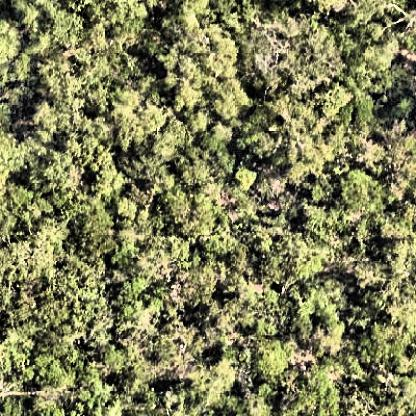tree-top: (252, 98, 341, 177), (253, 15, 335, 98), (255, 208, 343, 285), (361, 246, 416, 365), (150, 18, 244, 79), (189, 263, 265, 336), (1, 204, 70, 282), (21, 331, 89, 391), (293, 276, 354, 341), (35, 59, 83, 138), (110, 85, 164, 155), (25, 151, 88, 208), (64, 208, 124, 264), (288, 362, 348, 416), (145, 377, 223, 416), (338, 165, 392, 221), (247, 334, 300, 385), (111, 275, 155, 329), (165, 192, 216, 236), (45, 4, 93, 48), (152, 116, 196, 159), (210, 80, 254, 122), (101, 339, 144, 378), (2, 11, 25, 75), (171, 74, 209, 112), (231, 165, 260, 195)
